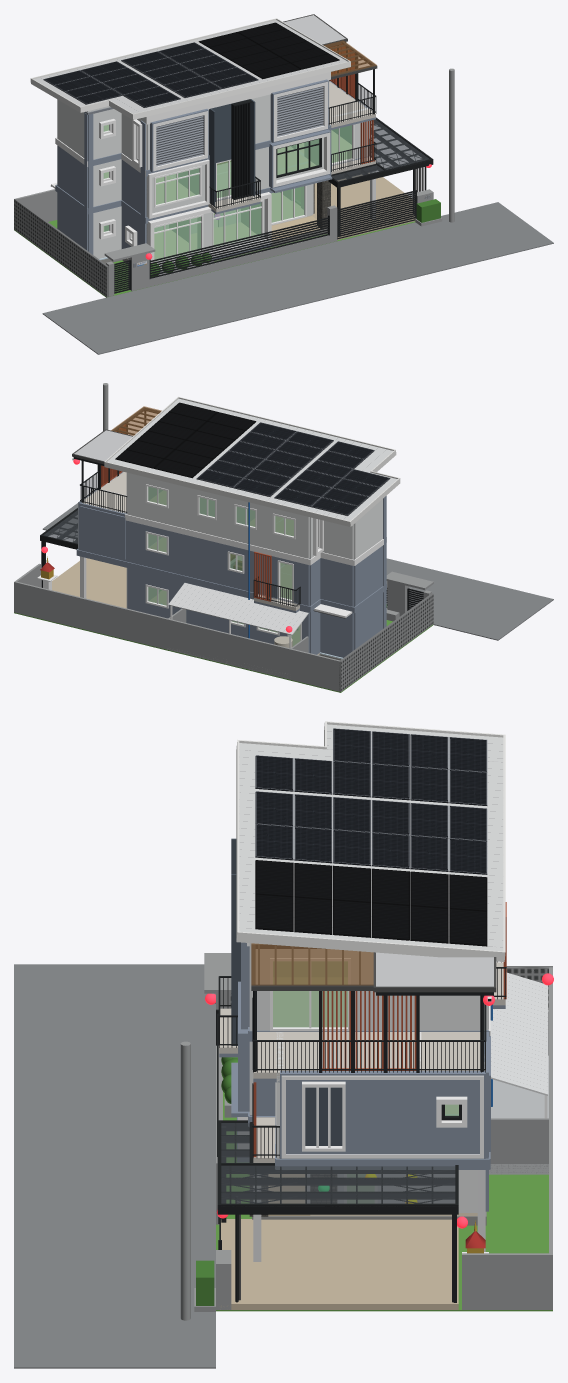
Rendered from house.glb.
3 renders of one model, top to bottom at view 1: azimuth 30°, elevation 25°; view 2: azimuth 150°, elevation 25°; view 3: azimuth 270°, elevation 25°, orthographic. The views are drawn at different scales.
Visible parts, largest first — view 1: road, floor-1, floor-2, floor-3, boundary, main-roof, room:f1-carport, roof-slab, roof, polycarbonate-smoke, glass:f1-front-multi, หลังคาโรงจอดรถ เหล็กดำ + โพลีคาร์บอเนตสีชาดำ (+25 smaller); view 2: floor-2, boundary, floor-3, floor-1, road, roof-slab, หลังคาเพิงหลังบ้าน (ลานซักล้าง), main-roof, room:f1-carport, roof, room:f3-terrace, หลังคาโรงจอดรถ เหล็กดำ + โพลีคาร์บอเนตสีชาดำ (+41 smaller); view 3: road, floor-2, room:f1-carport, floor-3, roof-slab, polycarbonate-smoke (×2), boundary, หลังคาโรงจอดรถ เหล็กดำ + โพลีคาร์บอเนตสีชาดำ, lawn, room:f3-terrace, roof, หลังคาเพิงหลังบ้าน (ลานซักล้าง) (+48 smaller).
Part boxes in pixels (bbox=[...]): road: bbox=[42, 202, 553, 354]; floor-1: bbox=[51, 112, 423, 296]; floor-2: bbox=[55, 81, 376, 223]; floor-3: bbox=[55, 42, 376, 176]; boundary: bbox=[14, 189, 108, 297]; main-roof: bbox=[30, 18, 350, 119]; room:f1-carport: bbox=[312, 173, 415, 239]; roof-slab: bbox=[60, 20, 347, 113]; roof: bbox=[283, 14, 377, 80]; polycarbonate-smoke: bbox=[371, 119, 429, 169]; glass:f1-front-multi: bbox=[154, 216, 200, 261]; หลังคาโรงจอดรถ เหล็กดำ + โพลีคาร์บอเนตสีชาดำ: bbox=[371, 117, 433, 175]; floor-2: bbox=[76, 471, 386, 613]; boundary: bbox=[14, 563, 433, 691]; floor-3: bbox=[73, 411, 386, 565]; floor-1: bbox=[42, 496, 431, 657]; road: bbox=[42, 503, 553, 640]; roof-slab: bbox=[107, 398, 392, 514]; หลังคาเพิงหลังบ้าน (ลานซักล้าง): bbox=[168, 583, 308, 635]; main-roof: bbox=[104, 396, 400, 526]; room:f1-carport: bbox=[52, 558, 126, 608]; roof: bbox=[72, 407, 160, 464]; room:f3-terrace: bbox=[82, 472, 126, 513]; หลังคาโรงจอดรถ เหล็กดำ + โพลีคาร์บอเนตสีชาดำ: bbox=[40, 508, 77, 587]; road: bbox=[14, 964, 215, 1368]; floor-2: bbox=[218, 838, 506, 1169]; room:f1-carport: bbox=[220, 1219, 458, 1309]; floor-3: bbox=[241, 942, 493, 1082]; roof-slab: bbox=[239, 743, 503, 951]; polycarbonate-smoke (×2): bbox=[221, 1123, 455, 1203]; boundary: bbox=[229, 966, 552, 1309]; หลังคาโรงจอดรถ เหล็กดำ + โพลีคาร์บอเนตสีชาดำ: bbox=[217, 1163, 458, 1302]; lawn: bbox=[216, 1078, 552, 1311]; room:f3-terrace: bbox=[253, 1032, 485, 1078]; roof: bbox=[251, 944, 496, 992]; หลังคาเพิงหลังบ้าน (ลานซักล้าง): bbox=[490, 972, 548, 1095].
Bounding box in the file's own units: 28.3 × 10.19 × 16.03.
75 materials, 9 textured.
